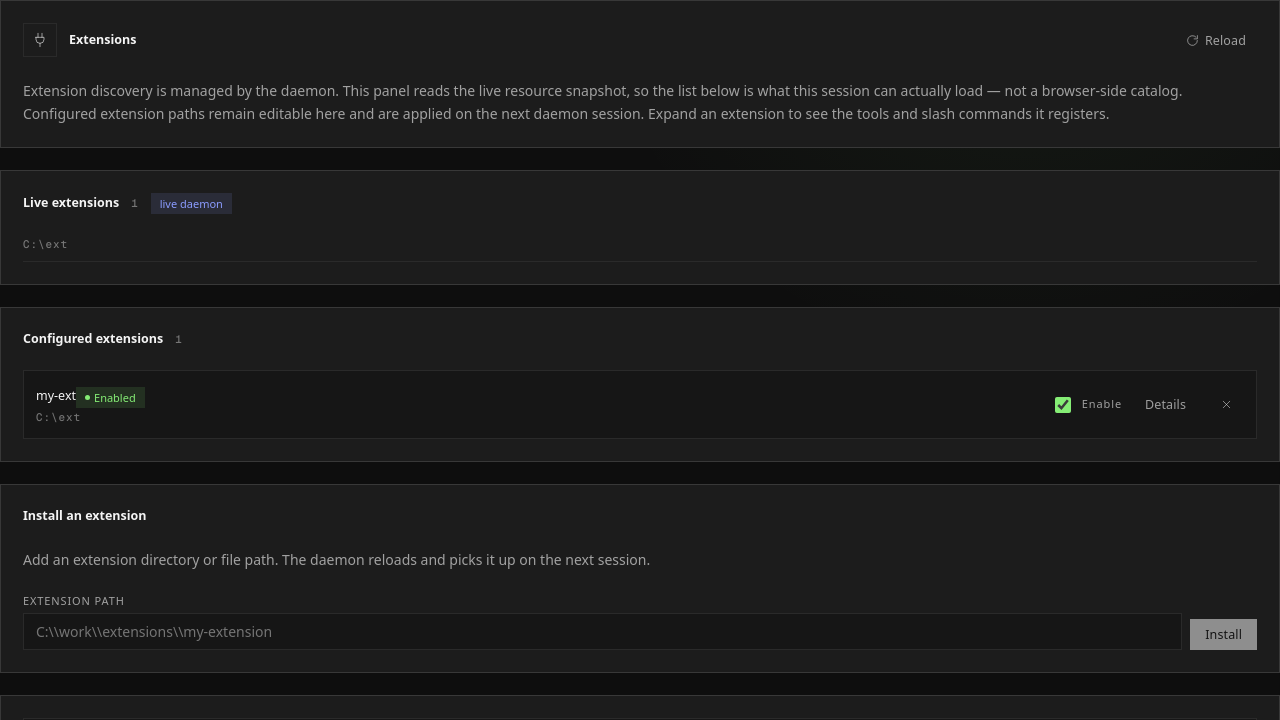
Test: ExtensionsPanel › installs an extension from a path
Expected: the text "my-ext" is shown, [36, 387, 76, 404]
In the field labelled "Extension path": (603, 632) [36, 614, 1169, 649], type "C:\\new-ext"
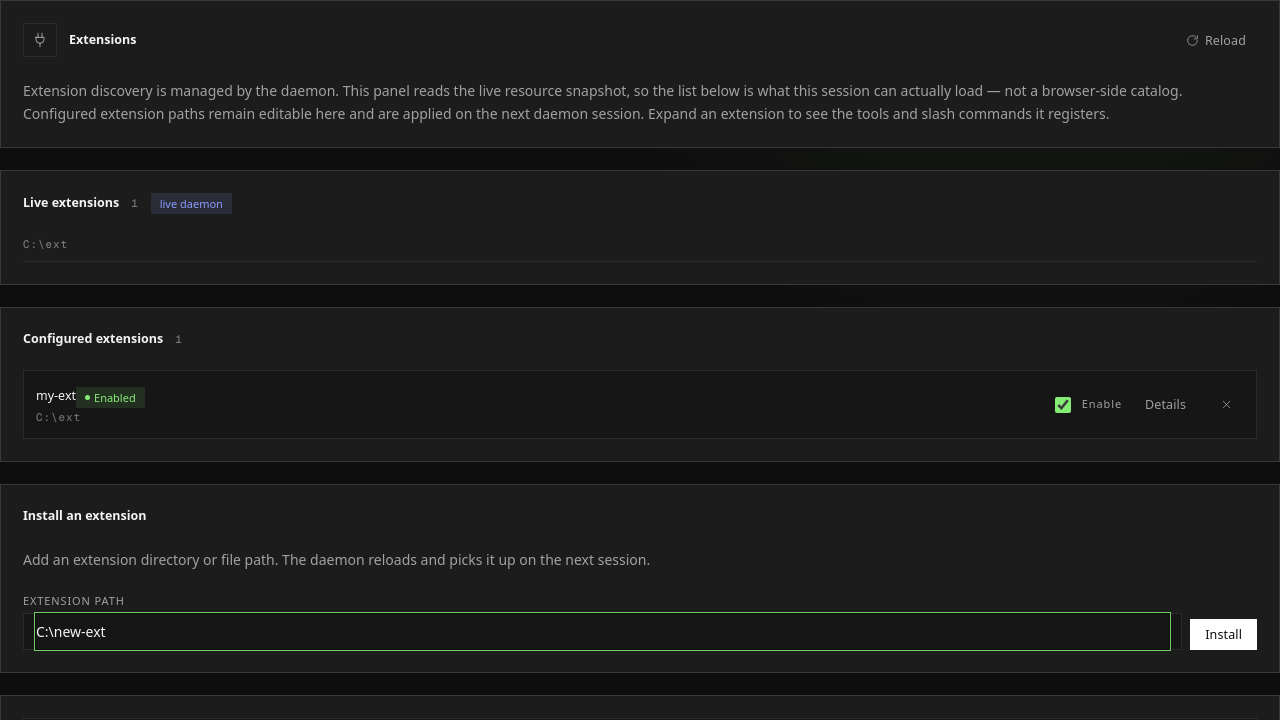
Click the button "Install": (1224, 635) [1190, 619, 1257, 650]
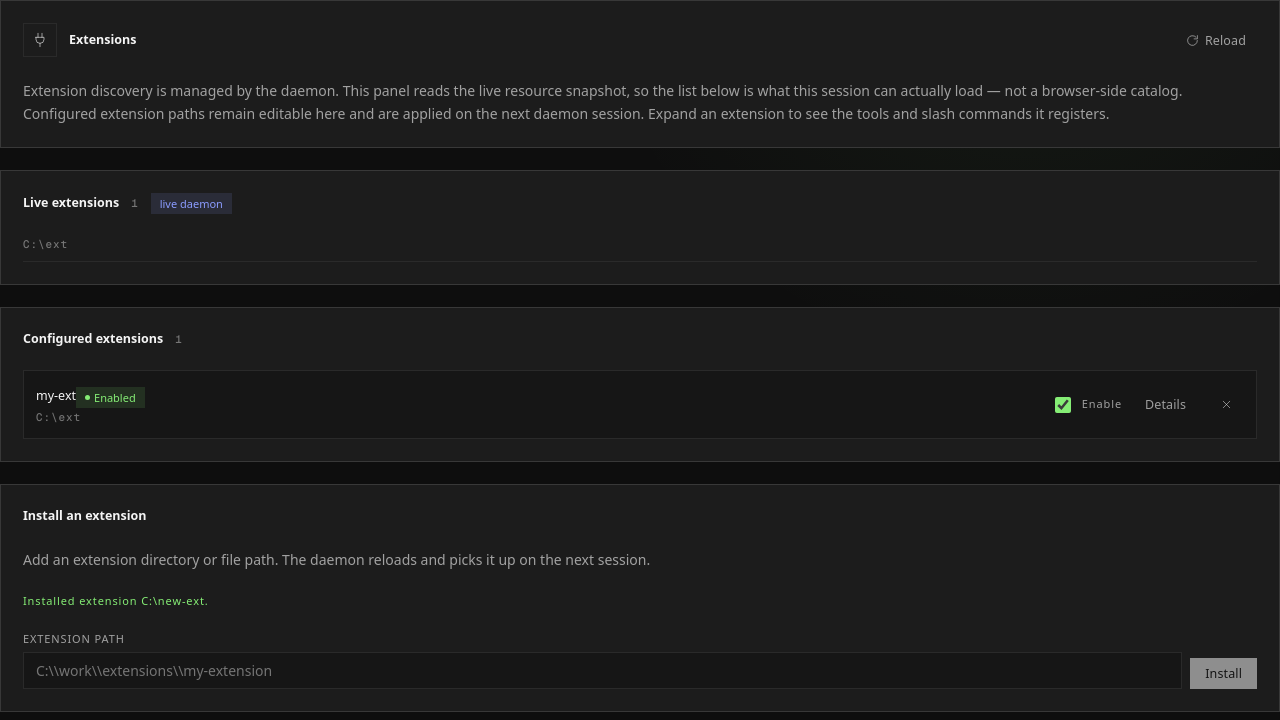
Now the text "Installed extension C:\\new-ext." is shown, box [23, 593, 209, 608]
